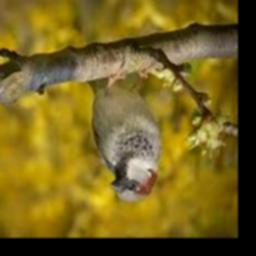Sparrow: (86, 70, 161, 203)
